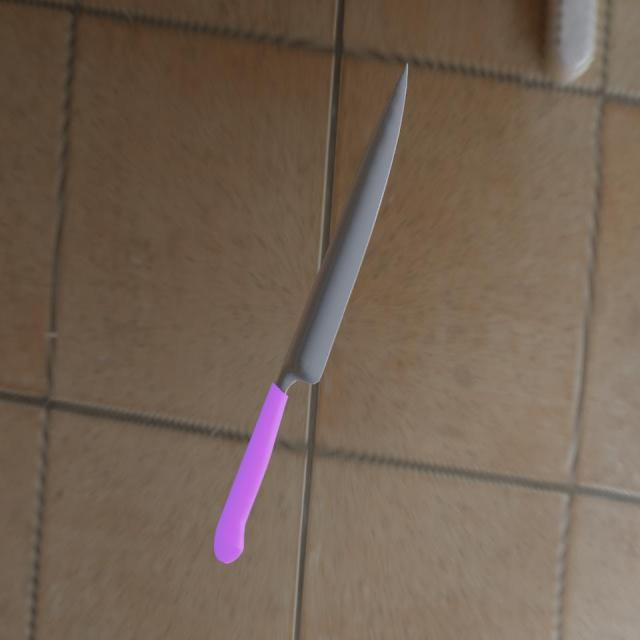knife: (213, 384, 288, 566)
